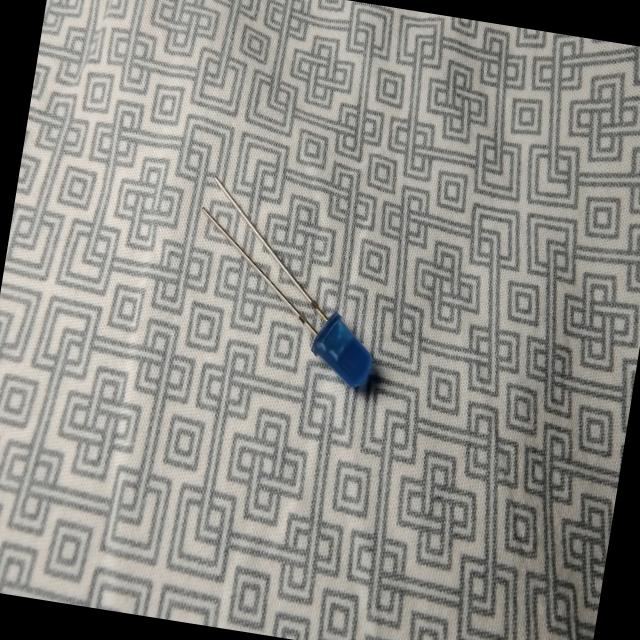blue_led: (304, 307, 380, 392)
